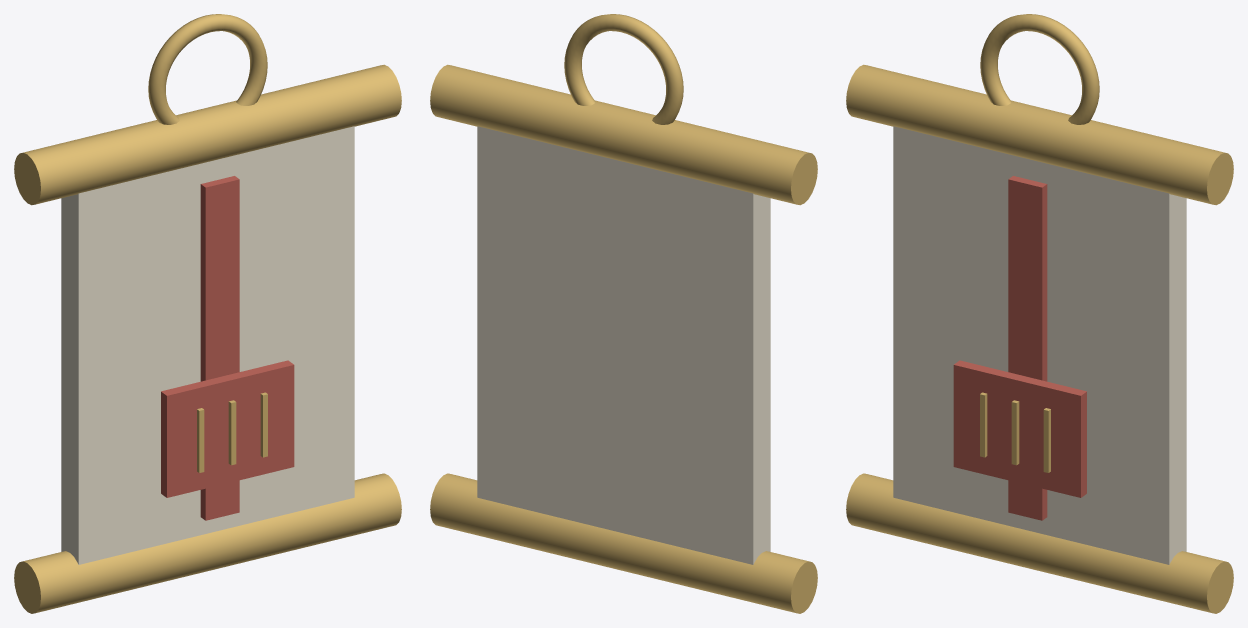
Rendered from scroll.glb.
3 renders of one model, left to right at view 1: azimuth 30°, elevation 25°; view 2: azimuth 150°, elevation 25°; view 3: azimuth 330°, elevation 25°, orthographic.
Size of the model in its own units: 0.85 by 1.24 by 0.16.
